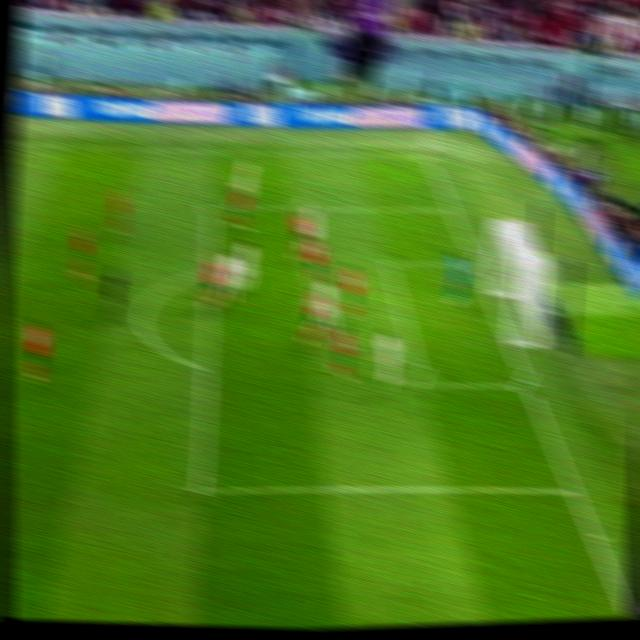bigarea_bottom_inner: (185, 471, 216, 505)
bigarea_bottom_outter: (556, 475, 586, 506)
bigarea_top_inner: (198, 195, 222, 218)
bigarea_top_outter: (436, 198, 460, 218)
bottom_arc_area_intersection: (192, 355, 217, 380)
corner: (413, 146, 437, 165)
smallarea_bottom_inner: (404, 364, 436, 399)
smallarea_bottom_outter: (511, 369, 539, 398)
smallarea_top_inner: (375, 251, 400, 274)
smallarea_top_outter: (461, 250, 486, 273)
